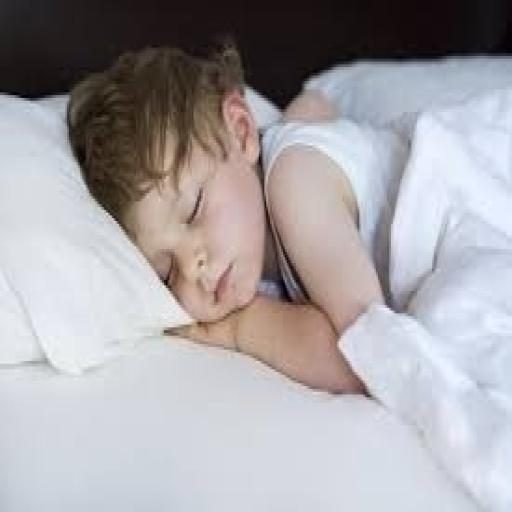sleeping: (65, 34, 412, 397)
